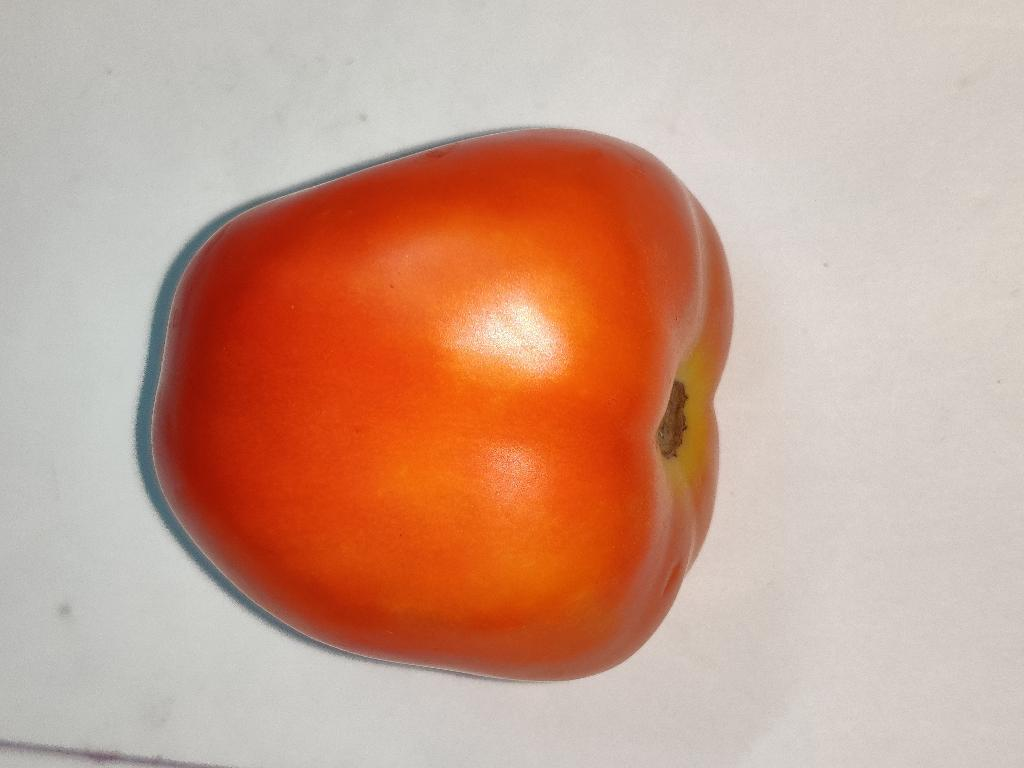tomato: (151, 130, 731, 679)
